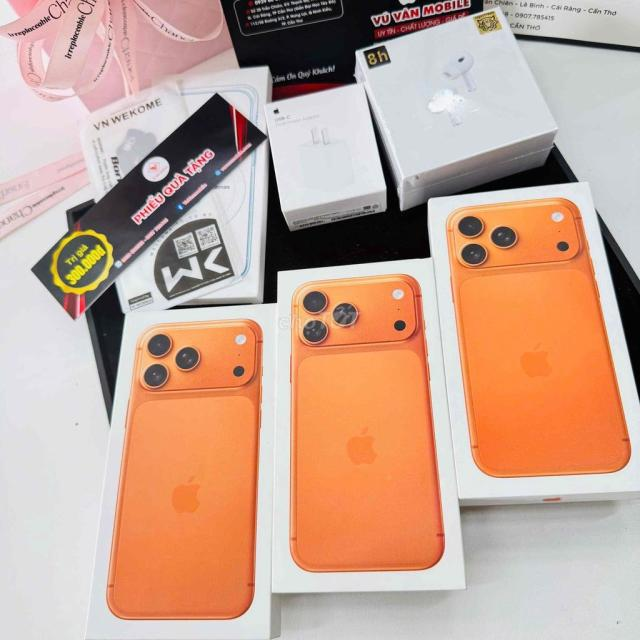gen_17: (286, 276, 452, 578)
